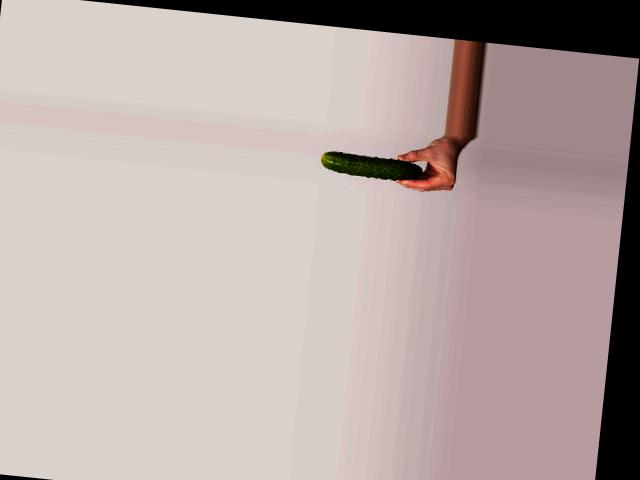cucumber: (320, 152, 423, 182)
